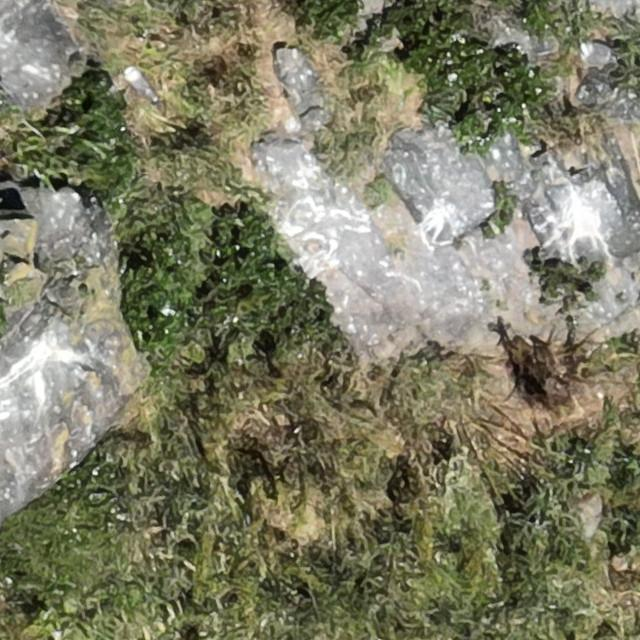umineko: (127, 70, 154, 98), (582, 44, 612, 64)
